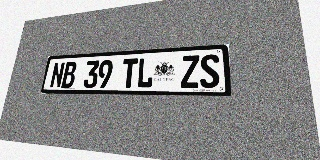3: (83, 60, 100, 88)
9: (96, 60, 113, 88)
B: (61, 61, 77, 88)
L: (136, 57, 154, 88)
N: (49, 62, 65, 88)
S: (200, 54, 220, 88)
T: (121, 58, 138, 88)
Z: (181, 55, 199, 88)
